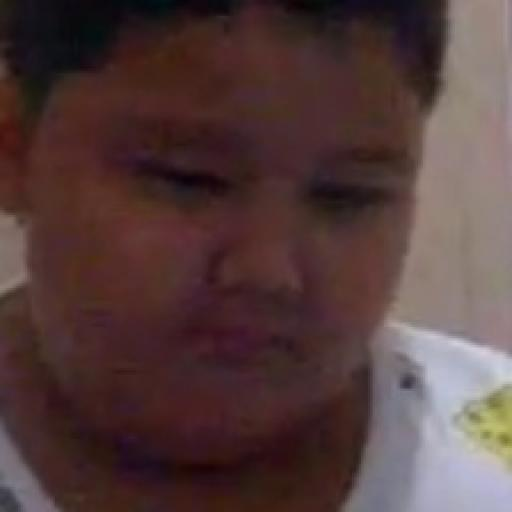Autism: (25, 0, 457, 414)
